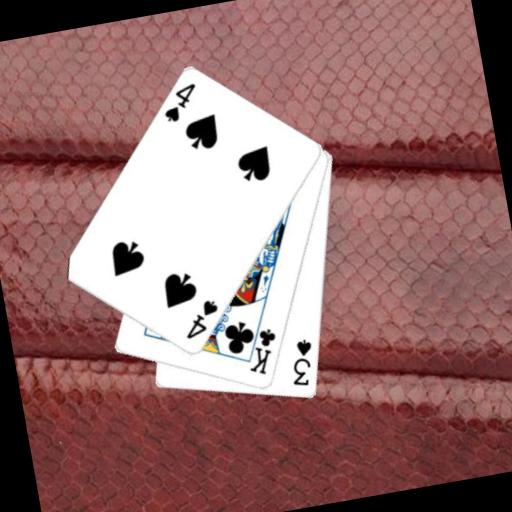3S: (283, 335, 320, 390)
4S: (177, 295, 224, 342), (156, 79, 203, 126)
KC: (237, 316, 284, 379)
